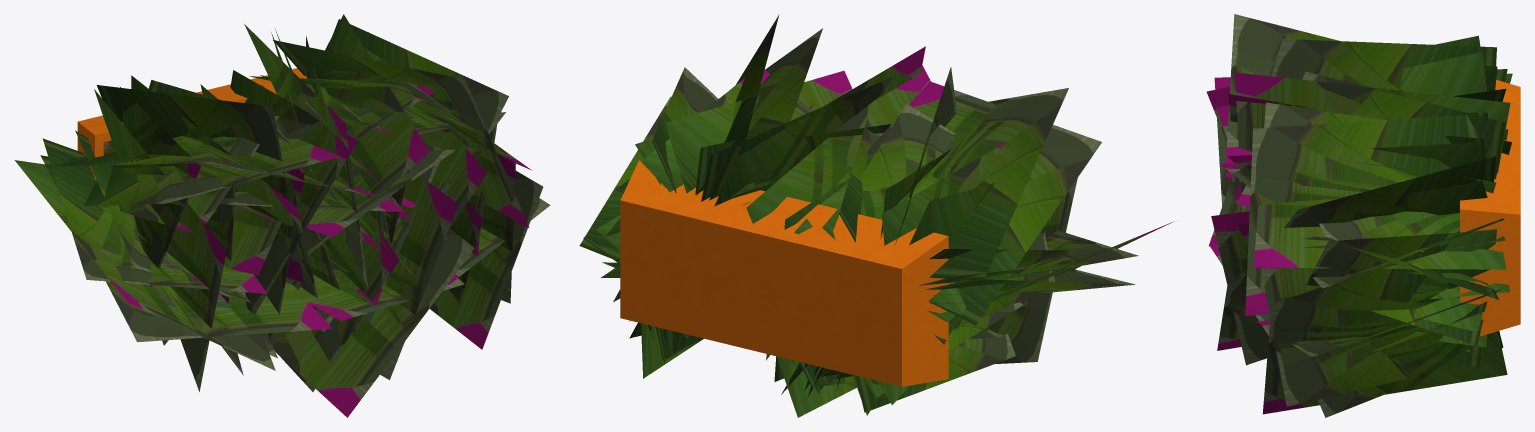
3 renders of one model, left to right at view 1: azimuth 30°, elevation 25°; view 2: azimuth 150°, elevation 25°; view 3: azimuth 270°, elevation 25°, orthographic. The views are drawn at different scales.
Visible parts, largest first — view 1: Pot_8_Low_PolyPlant_0; view 2: Pot_8_Low_PolyPlant_0; view 3: Pot_8_Low_PolyPlant_0.
Boxes of the visible parts, x1,y1,x2,y2 form: Pot_8_Low_PolyPlant_0: [14, 14, 550, 417]; Pot_8_Low_PolyPlant_0: [579, 15, 1174, 417]; Pot_8_Low_PolyPlant_0: [1206, 14, 1520, 417].
Bounding box in the file's own units: 2.5 × 1.51 × 1.45.
Materials: 1 (1 with a texture image).
